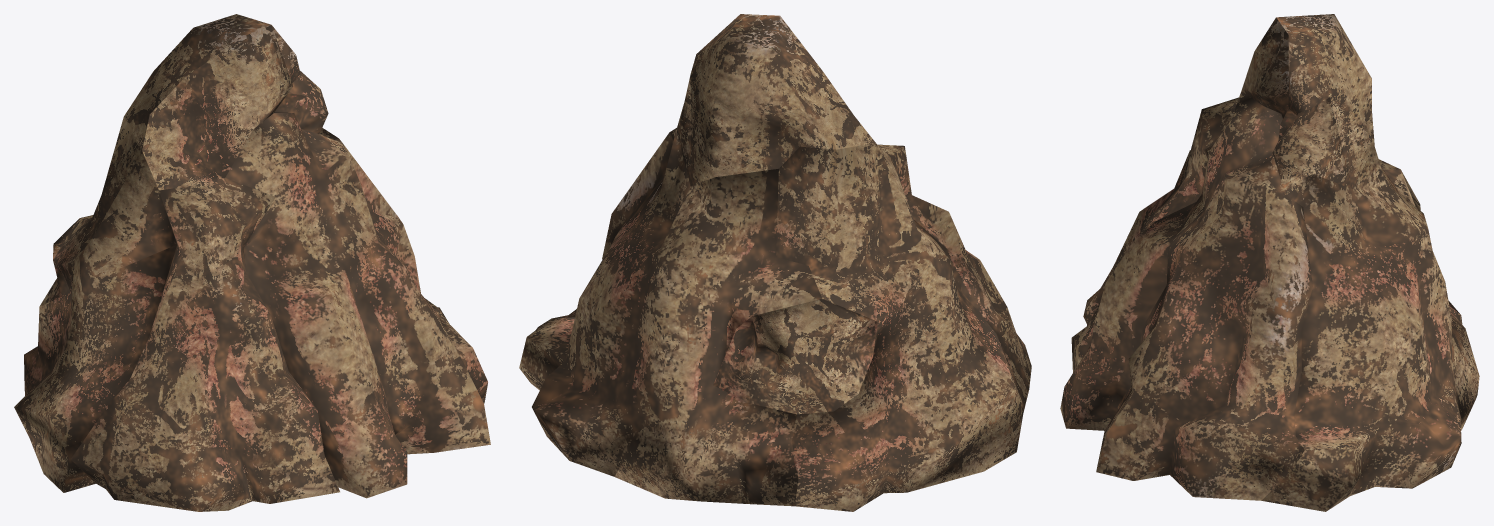
File: Stone2.fbx
The picture shows the model from 3 angles, left to right: view 1: azimuth 30°, elevation 25°; view 2: azimuth 150°, elevation 25°; view 3: azimuth 270°, elevation 25°; orthographic projection. The views are drawn at different scales.
Visible parts, largest first — view 1: stone2_low_from_blender_uv:Mesh; view 2: stone2_low_from_blender_uv:Mesh; view 3: stone2_low_from_blender_uv:Mesh.
Boxes of the visible parts, box(x1,y1,x2,y2) form: stone2_low_from_blender_uv:Mesh: box(14, 14, 490, 511); stone2_low_from_blender_uv:Mesh: box(519, 14, 1031, 511); stone2_low_from_blender_uv:Mesh: box(1060, 14, 1479, 511).
Size of the model in its own units: 105 by 95 by 89.77.
1 material, 1 textured.
